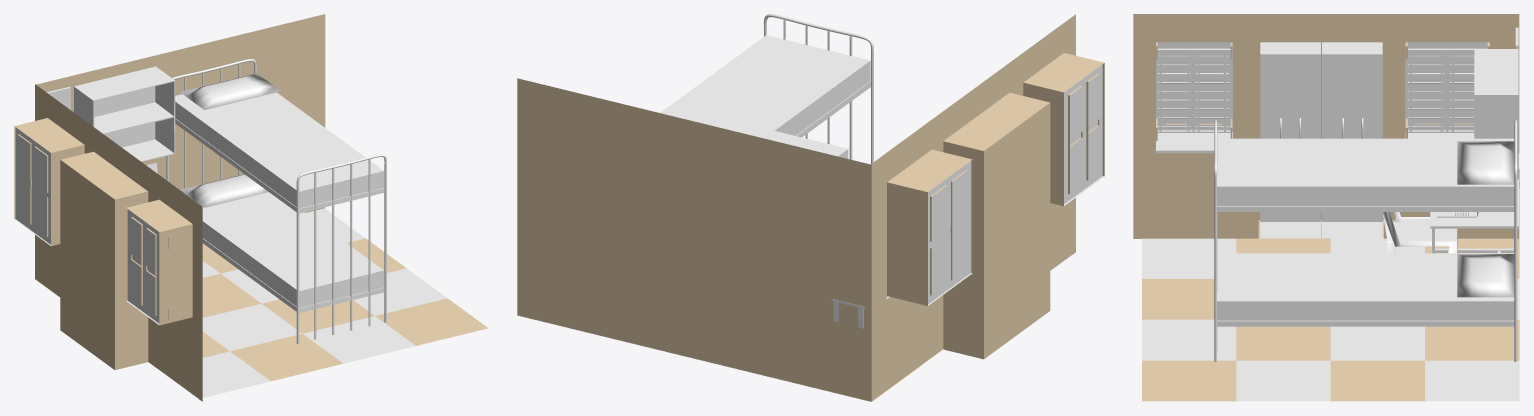
The model's file is uploads_files_642392_myroom.glb.
3 views of the same model, side by side, from view 1: azimuth 30°, elevation 25°; view 2: azimuth 150°, elevation 25°; view 3: azimuth 270°, elevation 25° (orthographic). The views are drawn at different scales.
Visible parts, largest first — view 1: Plane, Cube.026, Cube.025, Cube.006, Cylinder.006, Plane.007, Plane.008, BezierCurve.000, Plane.003, Plane.004; view 2: Plane, Cube.026, Cube.006, BezierCurve.000, Cylinder.006; view 3: Plane, Cube.026, Cube.025, Cube.006, Cube.003, Cube.002, Cube.001, Cube.004, Plane.007, Plane.008, Plane.004, Plane.005 (+10 smaller).
Part boxes in pixels (x1,y1,x2,y2): Plane: [14, 14, 487, 401]; Cube.026: [175, 92, 383, 208]; Cube.025: [186, 192, 383, 307]; Cube.006: [74, 66, 175, 161]; Cylinder.006: [184, 64, 370, 339]; Plane.007: [180, 73, 280, 109]; Plane.008: [180, 174, 268, 207]; BezierCurve.000: [296, 154, 386, 343]; Plane.003: [175, 118, 384, 213]; Plane.004: [202, 238, 384, 312]; Plane: [517, 14, 1104, 401]; Cube.026: [660, 35, 870, 135]; Cube.006: [738, 124, 848, 158]; BezierCurve.000: [763, 14, 873, 164]; Cylinder.006: [783, 20, 852, 159]; Plane: [1133, 14, 1519, 401]; Cube.026: [1217, 138, 1514, 205]; Cube.025: [1217, 253, 1514, 320]; Cube.006: [1474, 49, 1518, 179]; Cube.003: [1260, 54, 1290, 221]; Cube.002: [1322, 54, 1352, 221]; Cube.001: [1352, 54, 1382, 221]; Cube.004: [1290, 54, 1320, 221]; Plane.007: [1457, 141, 1514, 184]; Plane.008: [1457, 254, 1514, 297]; Plane.004: [1217, 320, 1514, 326]; Plane.005: [1382, 212, 1457, 253].
Bounding box in the file's own units: 14.78 × 8.54 × 13.26.
